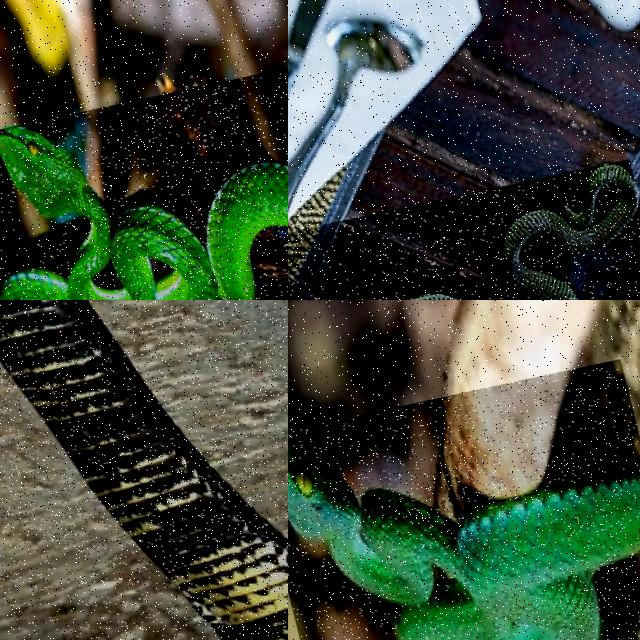Chrysopelea ornata: (502, 162, 638, 299)
Ophiophagus hannah: (0, 300, 287, 639)
Trimeresurus: (0, 125, 287, 299)
Trimeresurus macrops: (288, 436, 639, 639)
snake: (0, 300, 287, 639), (288, 436, 639, 639), (0, 125, 287, 299), (502, 162, 638, 299)
